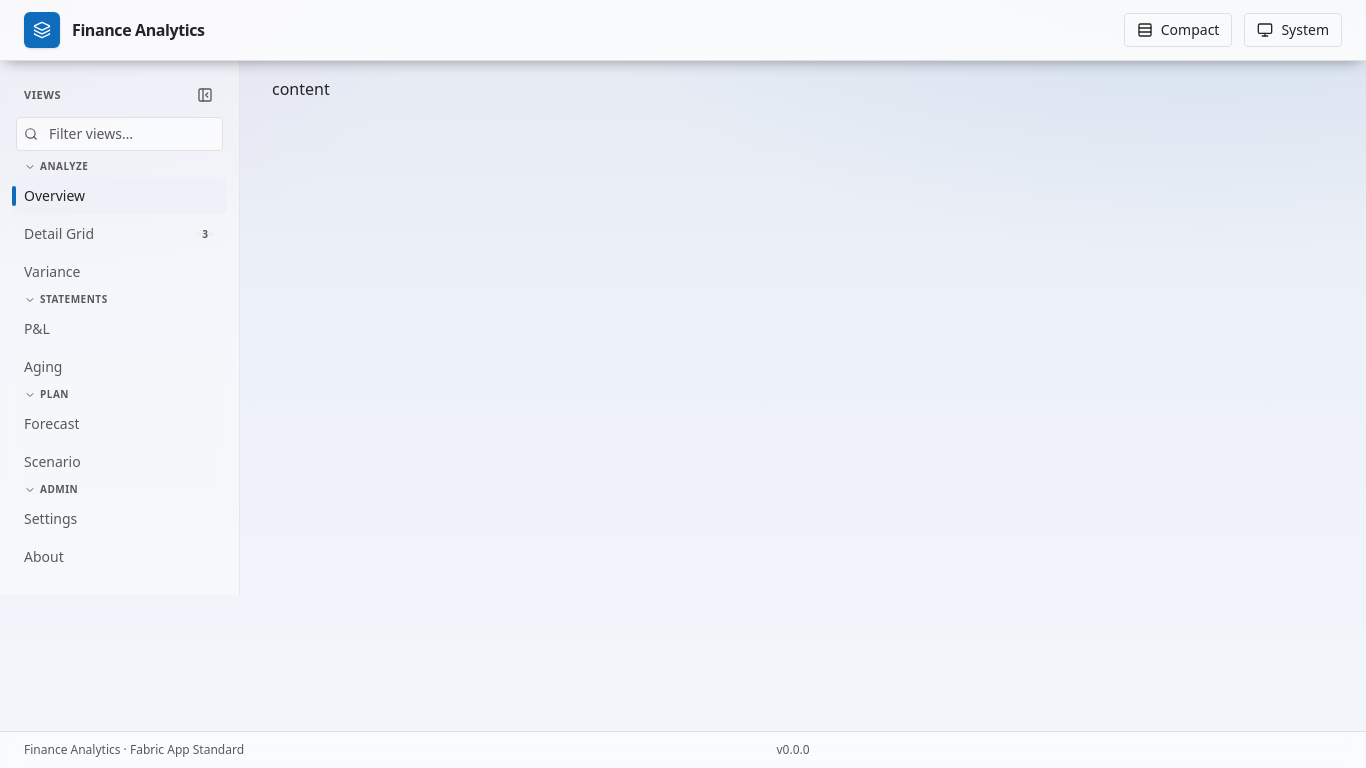
Test: FabricAppShell sidebar › collapses a group when its header toggle is clicked
Expected: the text "P&L" is shown, [24,319,50,339]
Click the button "Statements".
click(120, 302)  # box [12,292,227,311]
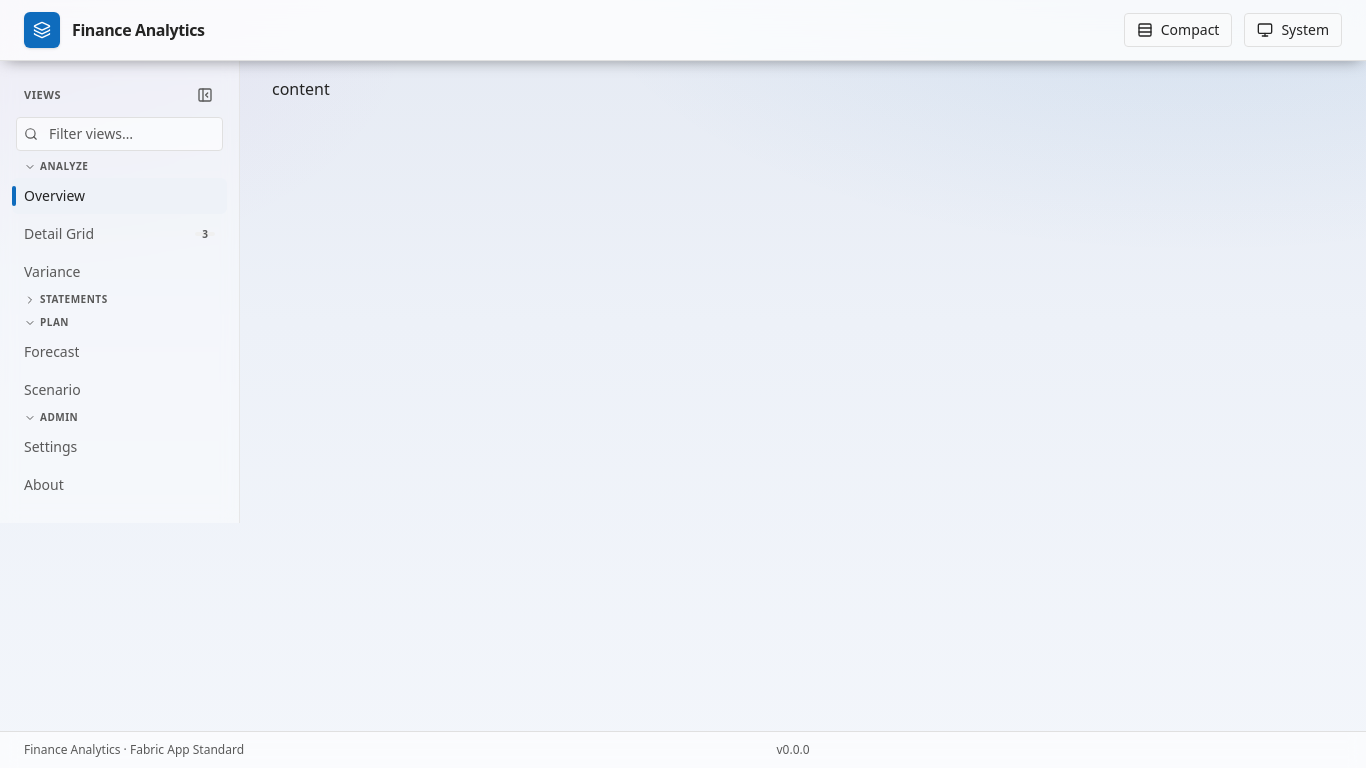
Result: the button "P&L" is gone
